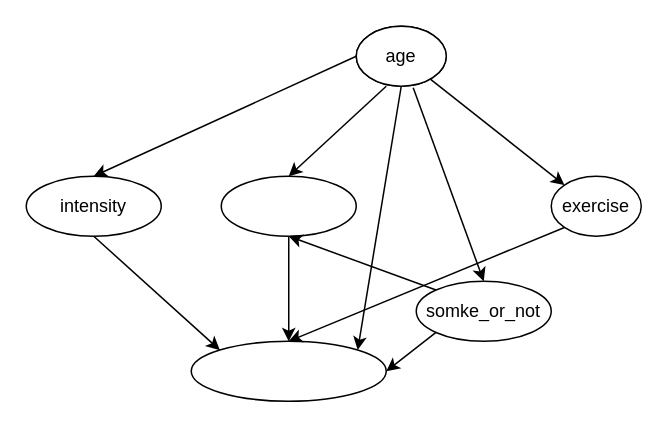
The diagram is 668 pixels wide and 428 high, and some of its shapes have lost their labels. The box of each missing label's shape, as (x1, y1, x2, y2) in pixels:
colorectal cancer: (190, 340, 386, 401)
somking_years: (220, 175, 356, 236)
